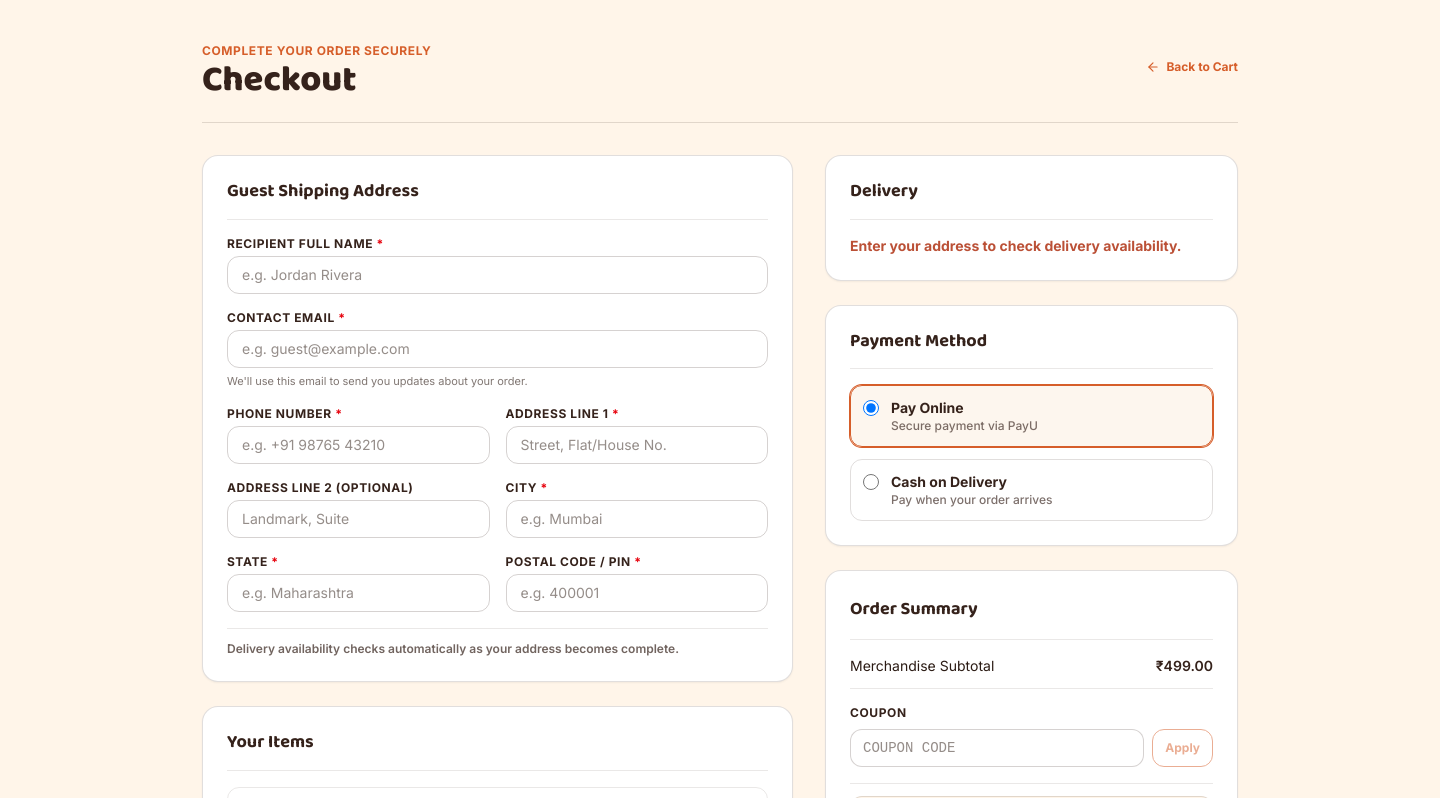
Test case: Stage 2 consolidated checkout › re-previews when payment method changes and blocks unavailable COD
The image size is (1440, 798).
Expected: the heading "Guest Shipping Address" is shown, 227,180 -> 419,203
Type "Guest User" into the field labelled "Recipient Full Name *" at (498, 275), box 227,256 -> 768,294
Type "+91 98765 00000" into the field labelled "Phone Number *" at (358, 445), box 227,426 -> 490,464
Type "123 Street" into the field labelled "Address Line 1 *" at (637, 445), box 506,426 -> 768,464
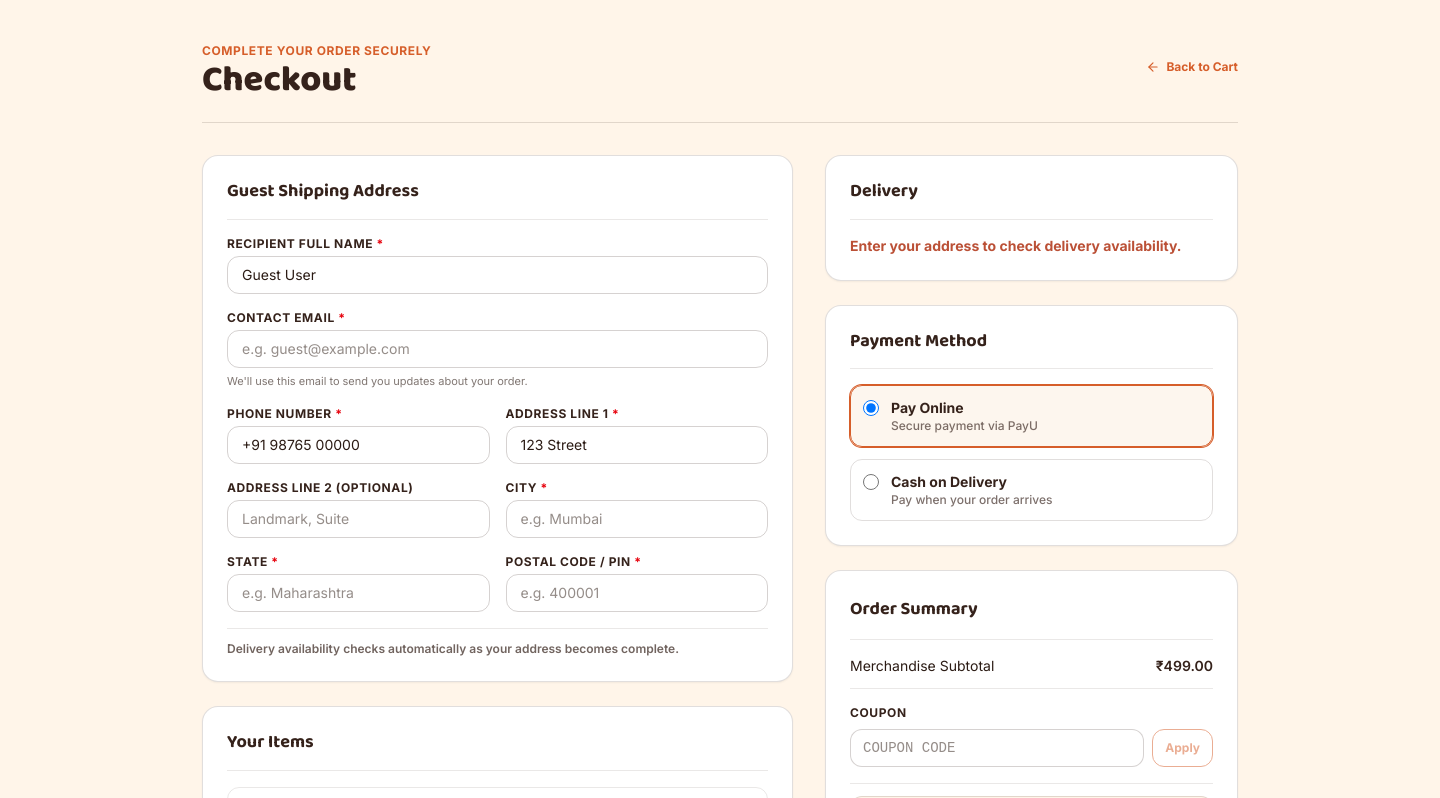
Type "Mumbai" into the field labelled "City *" at (637, 519), box 506,500 -> 768,538
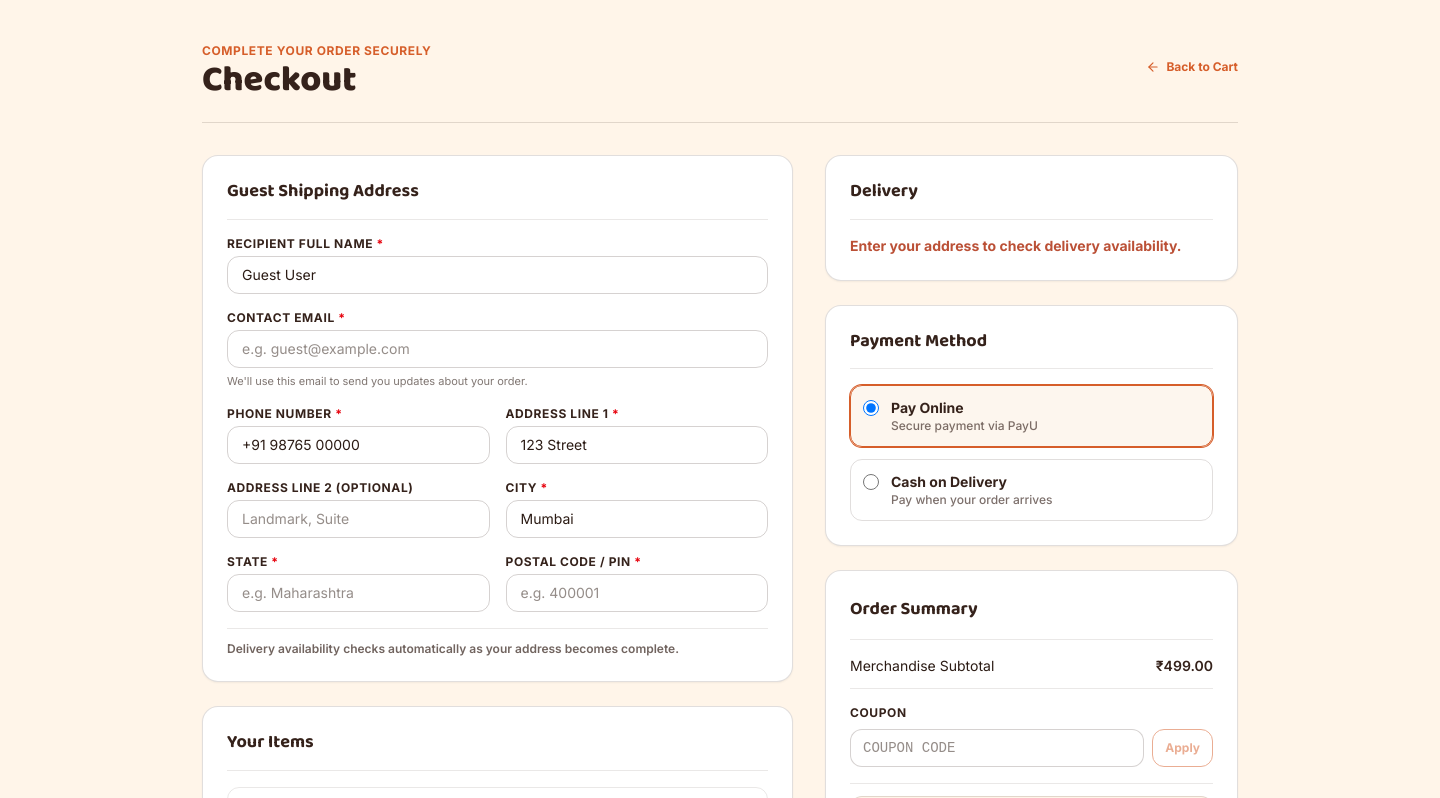
Type "Maharashtra" into the field labelled "State *" at (358, 593), box 227,574 -> 490,612
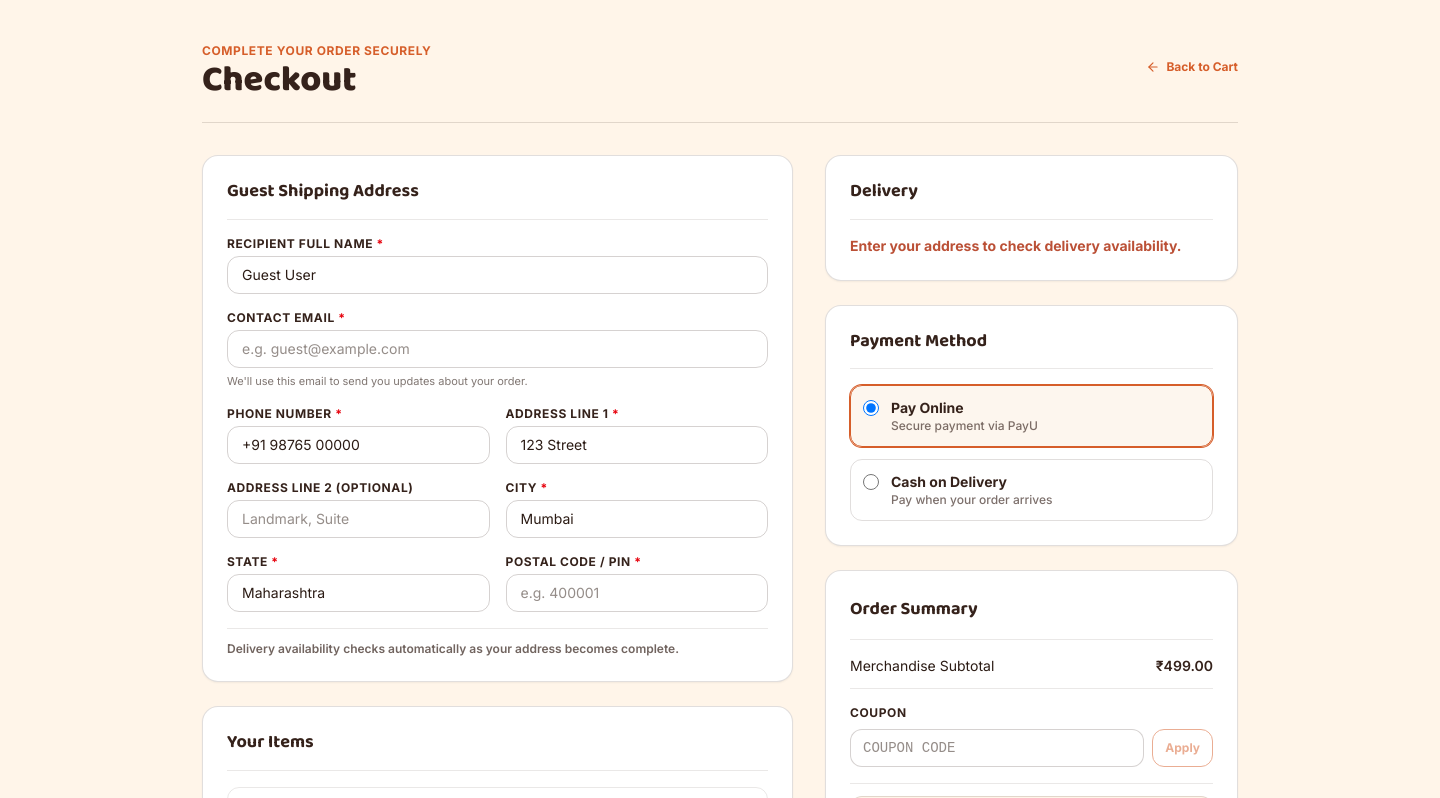
Type "400001" into the field labelled "Postal Code / PIN *" at (637, 593), box 506,574 -> 768,612
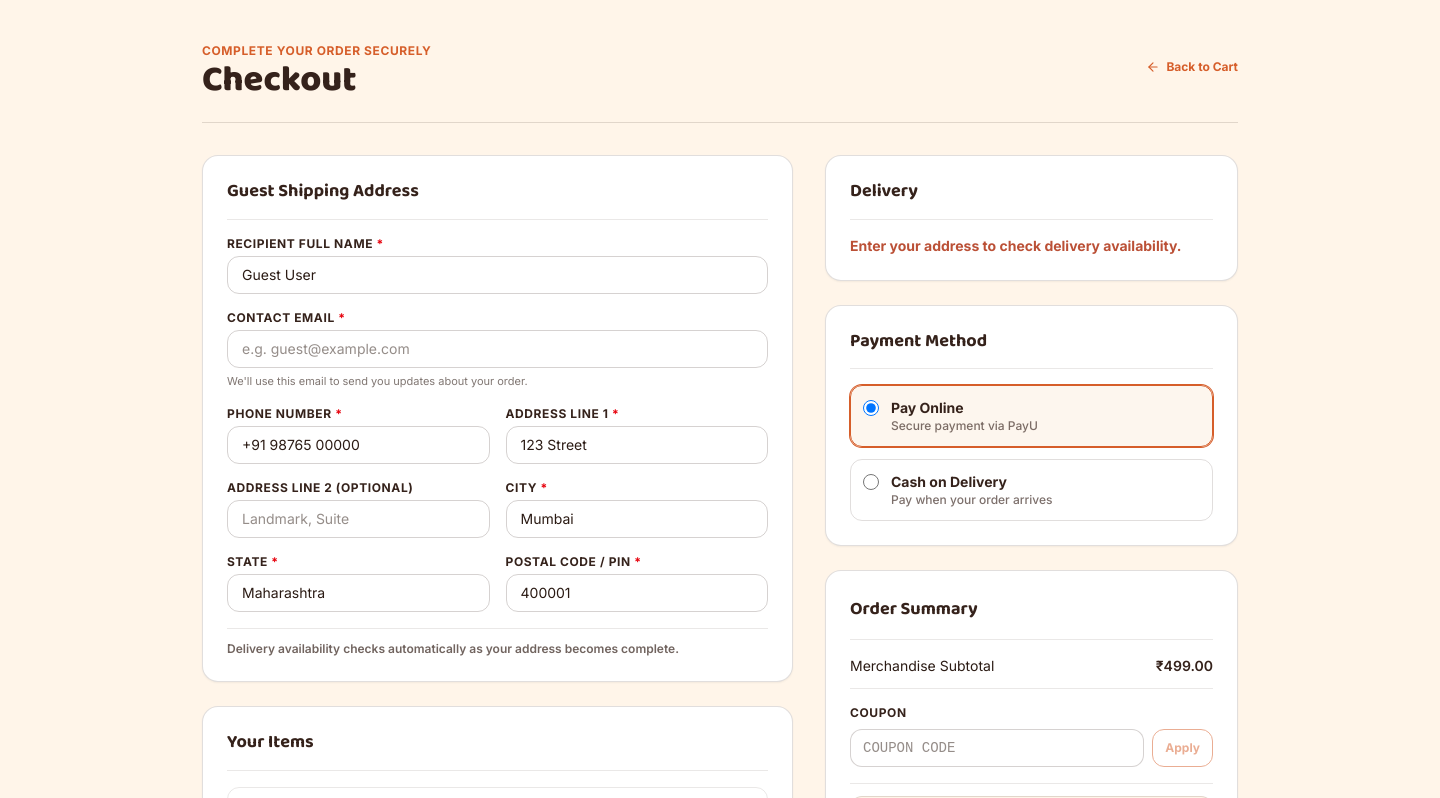
Type "guest@example.com" into the field labelled "Contact Email *" at (498, 349), box 227,330 -> 768,368
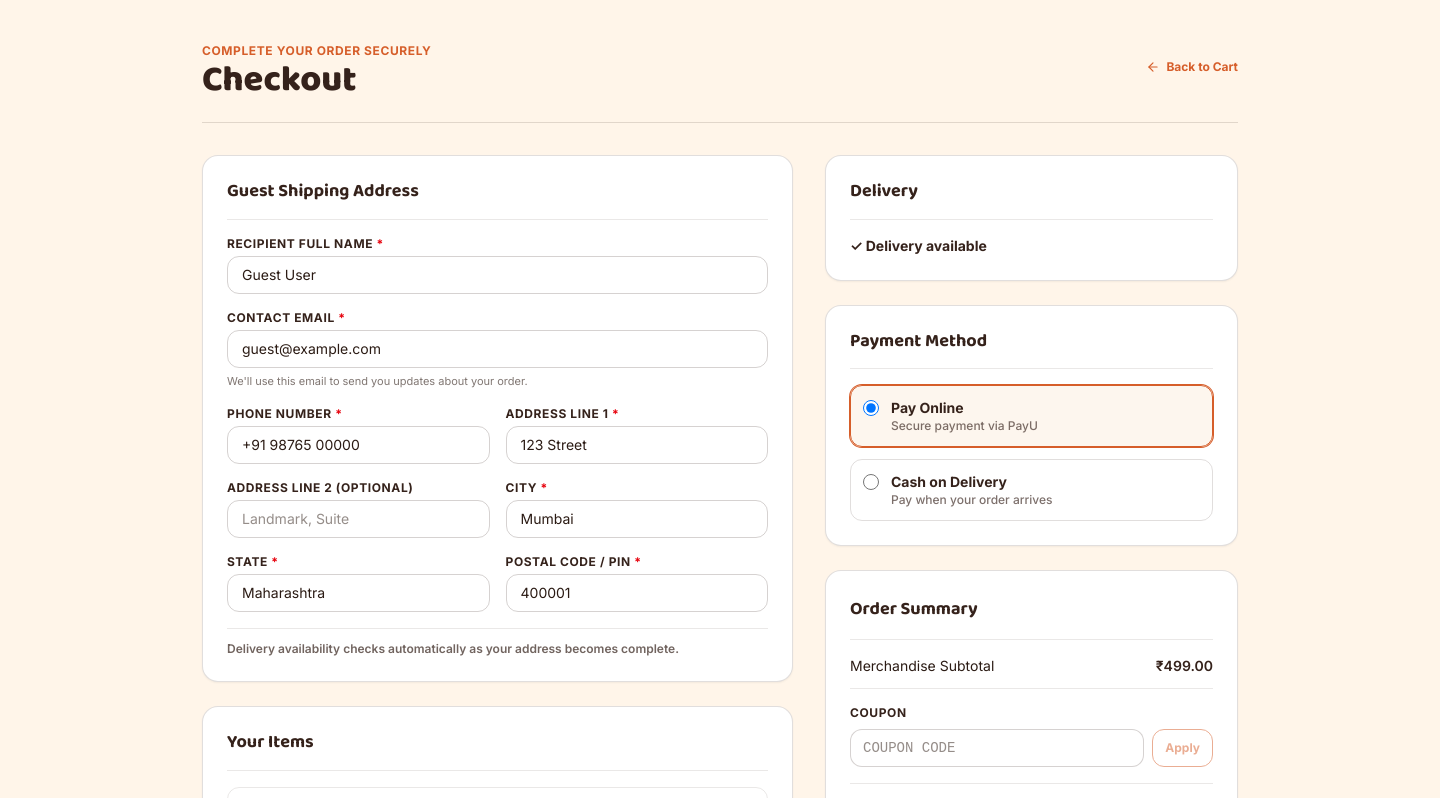
Click the radio button labelled "Cash on Delivery Pay when your order arrives" at (871, 482), box 863,474 -> 879,490
(page scrolled)
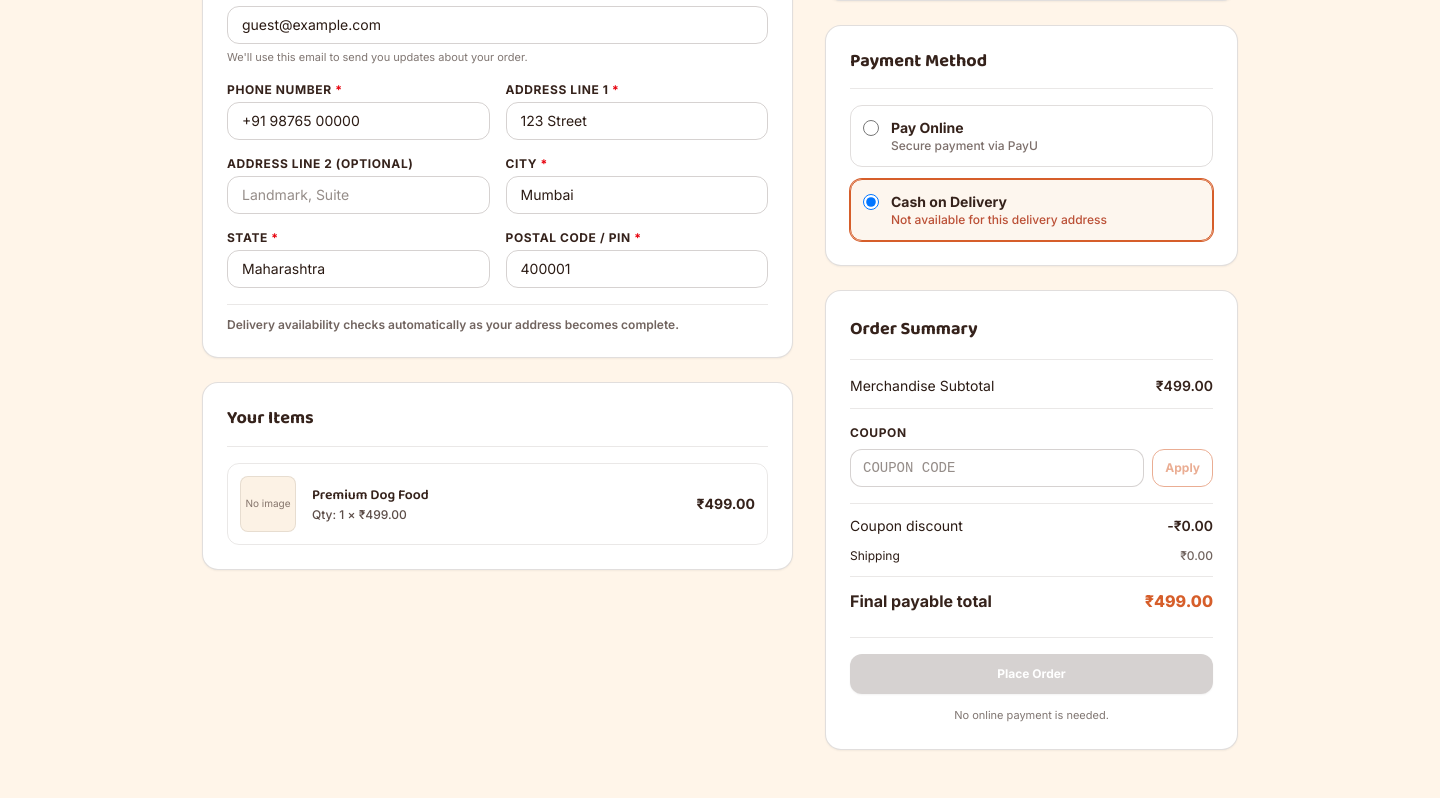
Now the button "Place Order" is disabled, box 850,654 -> 1213,694
